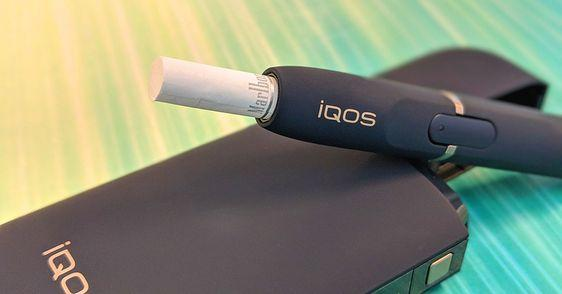iqos: (151, 57, 561, 176)
